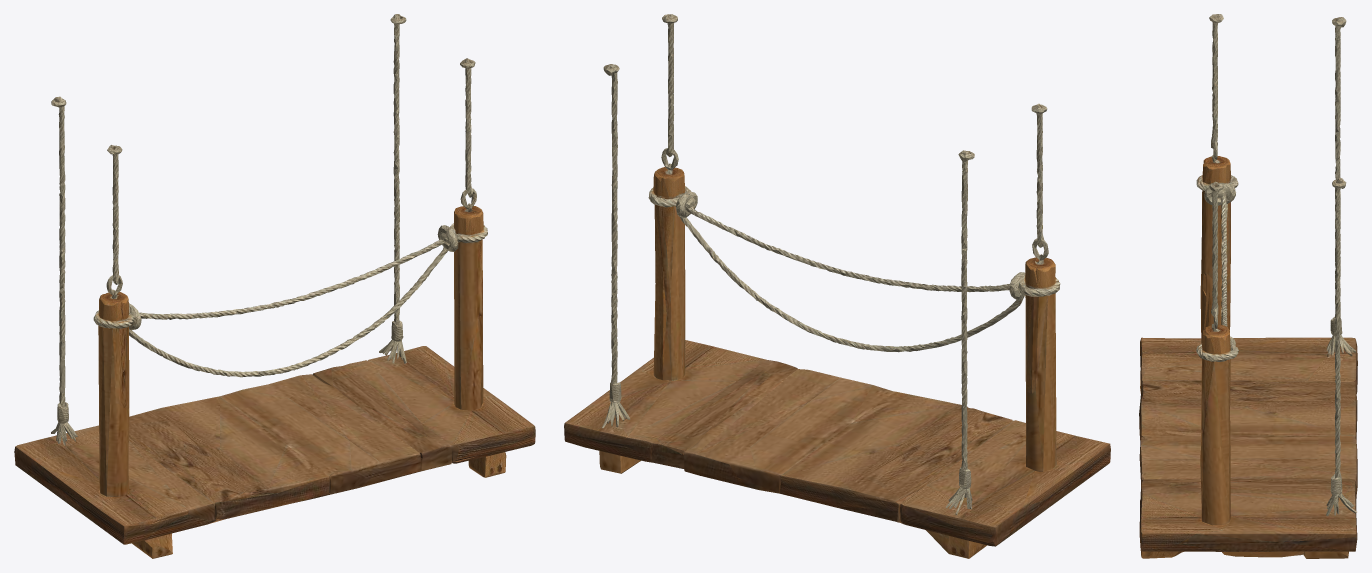
Rendered from rope_bridge.glb.
3 views of the same model, side by side, from view 1: azimuth 30°, elevation 25°; view 2: azimuth 150°, elevation 25°; view 3: azimuth 270°, elevation 25° (orthographic). The views are drawn at different scales.
Visible parts, largest first — view 1: Mesh_0; view 2: Mesh_0; view 3: Mesh_0.
Boxes of the visible parts, left/top/right/bottom form: Mesh_0: left=14, top=14, right=535, bottom=558; Mesh_0: left=564, top=14, right=1110, bottom=558; Mesh_0: left=1139, top=14, right=1357, bottom=558.
Size of the model in its own units: 1.9 by 1.7 by 0.8923.
1 material, 1 textured.
